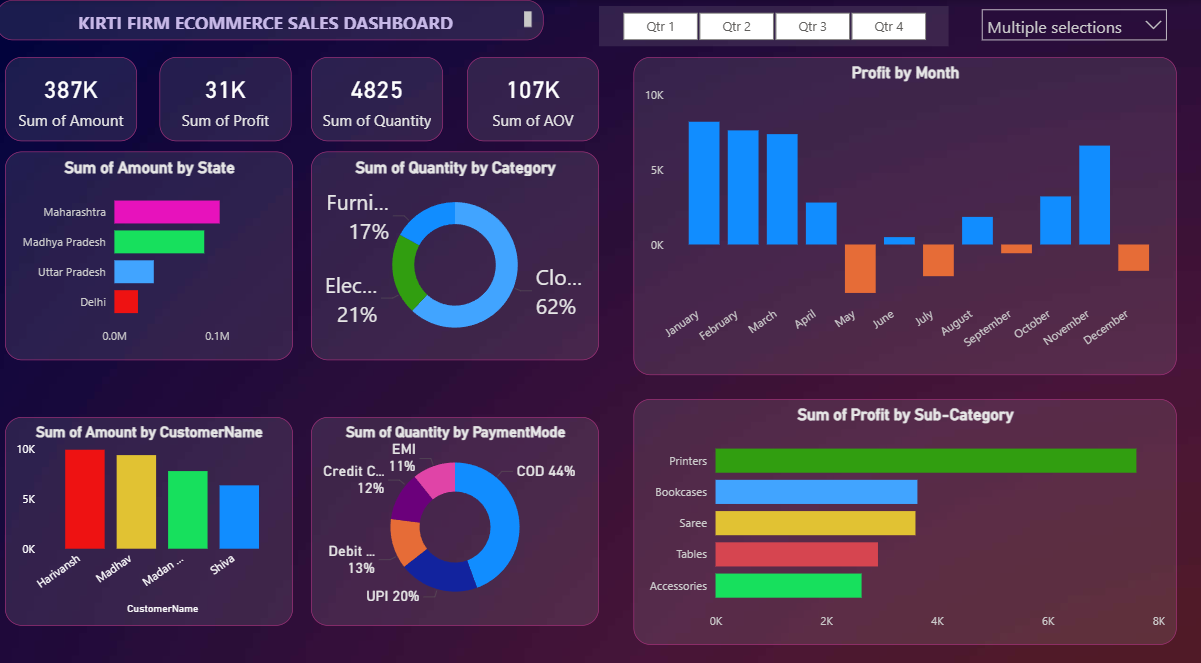

The dashboard page shown, as its layout file describes it:
{"tool":"powerbi","page":{"name":"Page 1","canvas":[1280,720],"ordinal":0},"visuals":[{"type":"textbox","box":[0,0,580.6,42.9],"z":0},{"type":"columnChart","title":" Profit by Month","fields":{"Category":["Orders.Order Date.Variation.Date Hierarchy.Month"],"Y":["Sum(Details.Profit)"]},"box":[676,60.4,575.8,337.2],"z":1000},{"type":"barChart","fields":{"Category":["Details.Sub-Category"],"Y":["Sum(Details.Profit)"]},"box":[676,423.1,575.8,260.9],"z":2000},{"type":"donutChart","fields":{"Category":["Details.Category"],"Y":["Sum(Details.Quantity)"]},"box":[334,160.7,305.4,221.1],"z":3000},{"type":"donutChart","fields":{"Y":["Sum(Details.Quantity)"],"Category":["Details.PaymentMode"]},"box":[334,442.2,305.4,221.1],"z":4000},{"type":"card","fields":{"Values":["Sum(Details.Amount)"]},"box":[9.5,60.4,140,89.1],"z":5000},{"type":"card","fields":{"Values":["Sum(Details.Profit)"]},"box":[173.4,60.4,140,89.1],"z":6000},{"type":"card","fields":{"Values":["Sum(Details.Quantity)"]},"box":[334,60.4,140,89.1],"z":7000},{"type":"card","fields":{"Values":["Sum(Details.AOV)"]},"box":[499.5,60.4,140,89.1],"z":8000},{"type":"barChart","fields":{"Category":["Orders.State"],"Y":["Sum(Details.Amount)"]},"box":[9.5,160.7,305.4,221.1],"z":9000},{"type":"columnChart","fields":{"Category":["Orders.CustomerName"],"Y":["Sum(Details.Amount)"]},"box":[10,442,305,221],"z":10000},{"type":"slicer","fields":{"Values":["Orders.Order Date.Variation.Date Hierarchy.Quarter"]},"box":[639.4,6.4,370.6,42.9],"z":11000},{"type":"slicer","fields":{"Values":["Orders.State"]},"box":[1035.5,0,216.3,49.3],"z":12000}]}

Visuals, with their boxes in screenshot pixels (x1, y1, x2, y2), scaled from the page's 1280x720 canvas onto the 1201x663 screenshot:
textbox: (left=0, top=0, right=545, bottom=40)
" Profit by Month" columnChart: (left=634, top=56, right=1175, bottom=366)
barChart - Details.Sub-Category x Sum(Details.Profit): (left=634, top=390, right=1175, bottom=630)
donutChart - Details.Category x Sum(Details.Quantity): (left=313, top=148, right=600, bottom=352)
donutChart - Sum(Details.Quantity) x Details.PaymentMode: (left=313, top=407, right=600, bottom=611)
card - Sum(Details.Amount): (left=9, top=56, right=140, bottom=138)
card - Sum(Details.Profit): (left=163, top=56, right=294, bottom=138)
card - Sum(Details.Quantity): (left=313, top=56, right=445, bottom=138)
card - Sum(Details.AOV): (left=469, top=56, right=600, bottom=138)
barChart - Orders.State x Sum(Details.Amount): (left=9, top=148, right=295, bottom=352)
columnChart - Orders.CustomerName x Sum(Details.Amount): (left=9, top=407, right=296, bottom=611)
slicer - Orders.Order Date.Variation.Date Hierarchy.Quarter: (left=600, top=6, right=948, bottom=45)
slicer - Orders.State: (left=972, top=0, right=1175, bottom=45)
